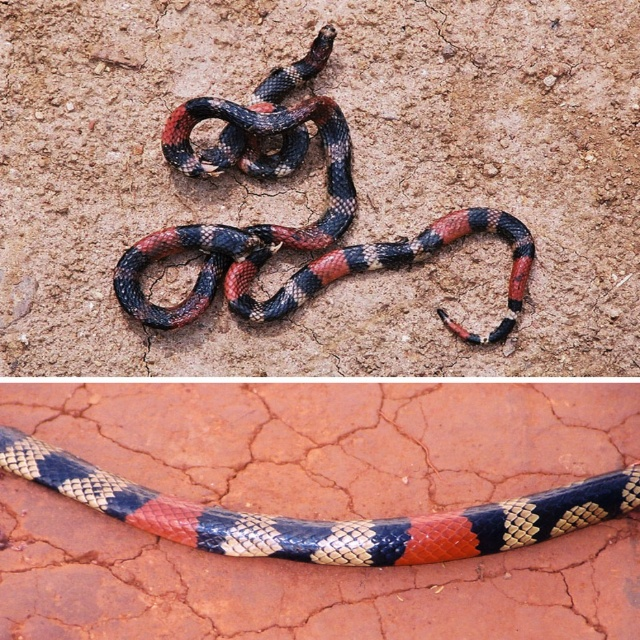Snake: (112, 23, 538, 344), (0, 426, 639, 568)
